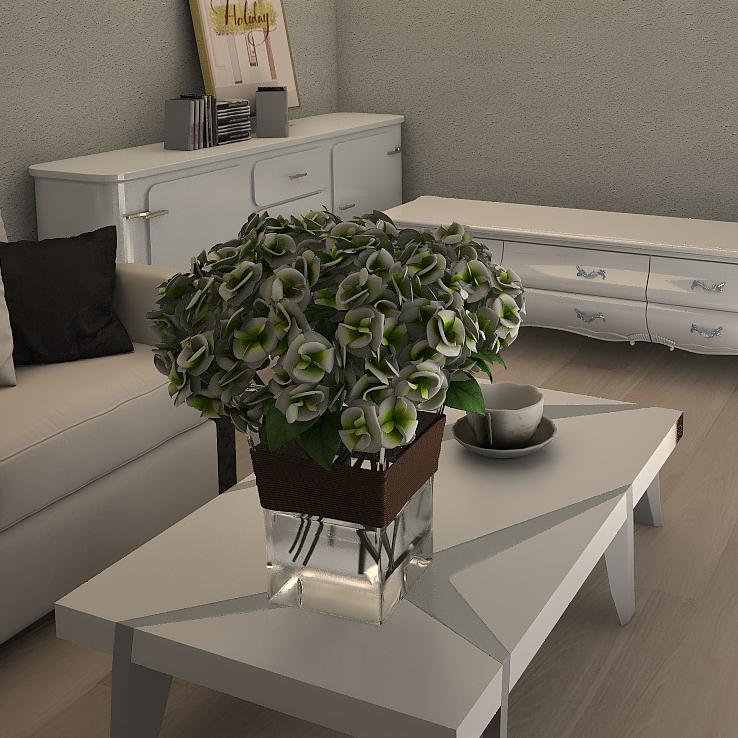table: (51, 361, 684, 738)
